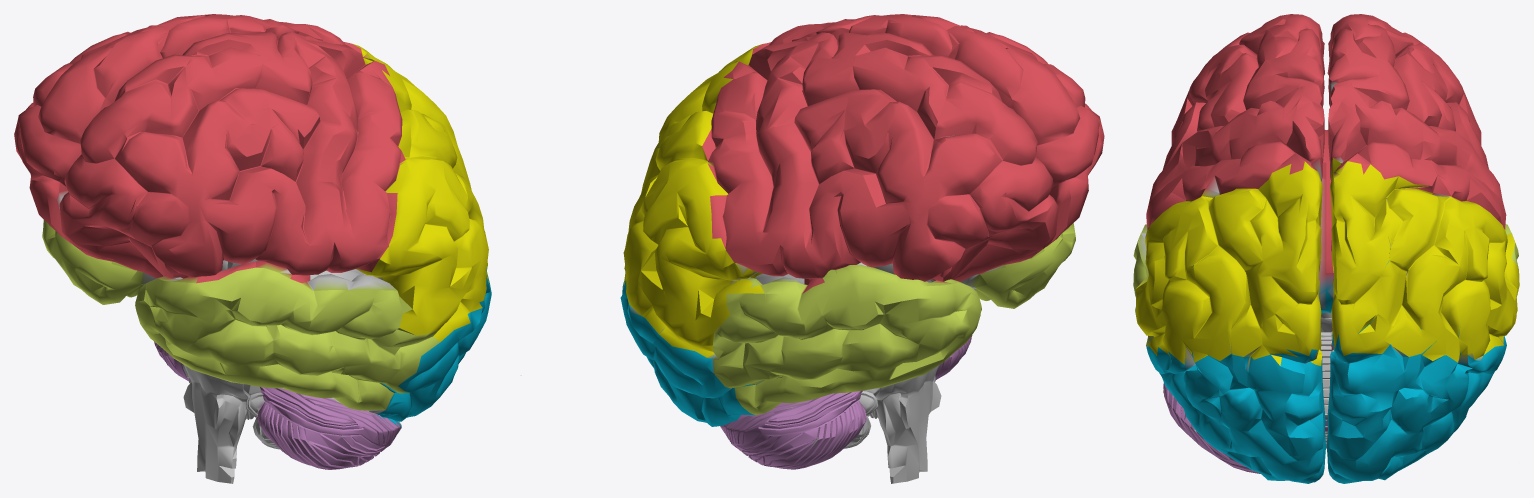
File: human_brain.glb
The picture shows the model from 3 angles, left to right: view 1: azimuth 30°, elevation 25°; view 2: azimuth 150°, elevation 25°; view 3: azimuth 270°, elevation 25°; orthographic projection. The views are drawn at different scales.
Visible parts, largest first — view 1: Object_4; view 2: Object_4; view 3: Object_4.
Part boxes in pixels (x1,y1,x2,y2): Object_4: (14, 14, 491, 483); Object_4: (620, 14, 1104, 483); Object_4: (1133, 14, 1519, 483).
Bounding box in the file's own units: 0.3154 × 0.3088 × 0.2652.
